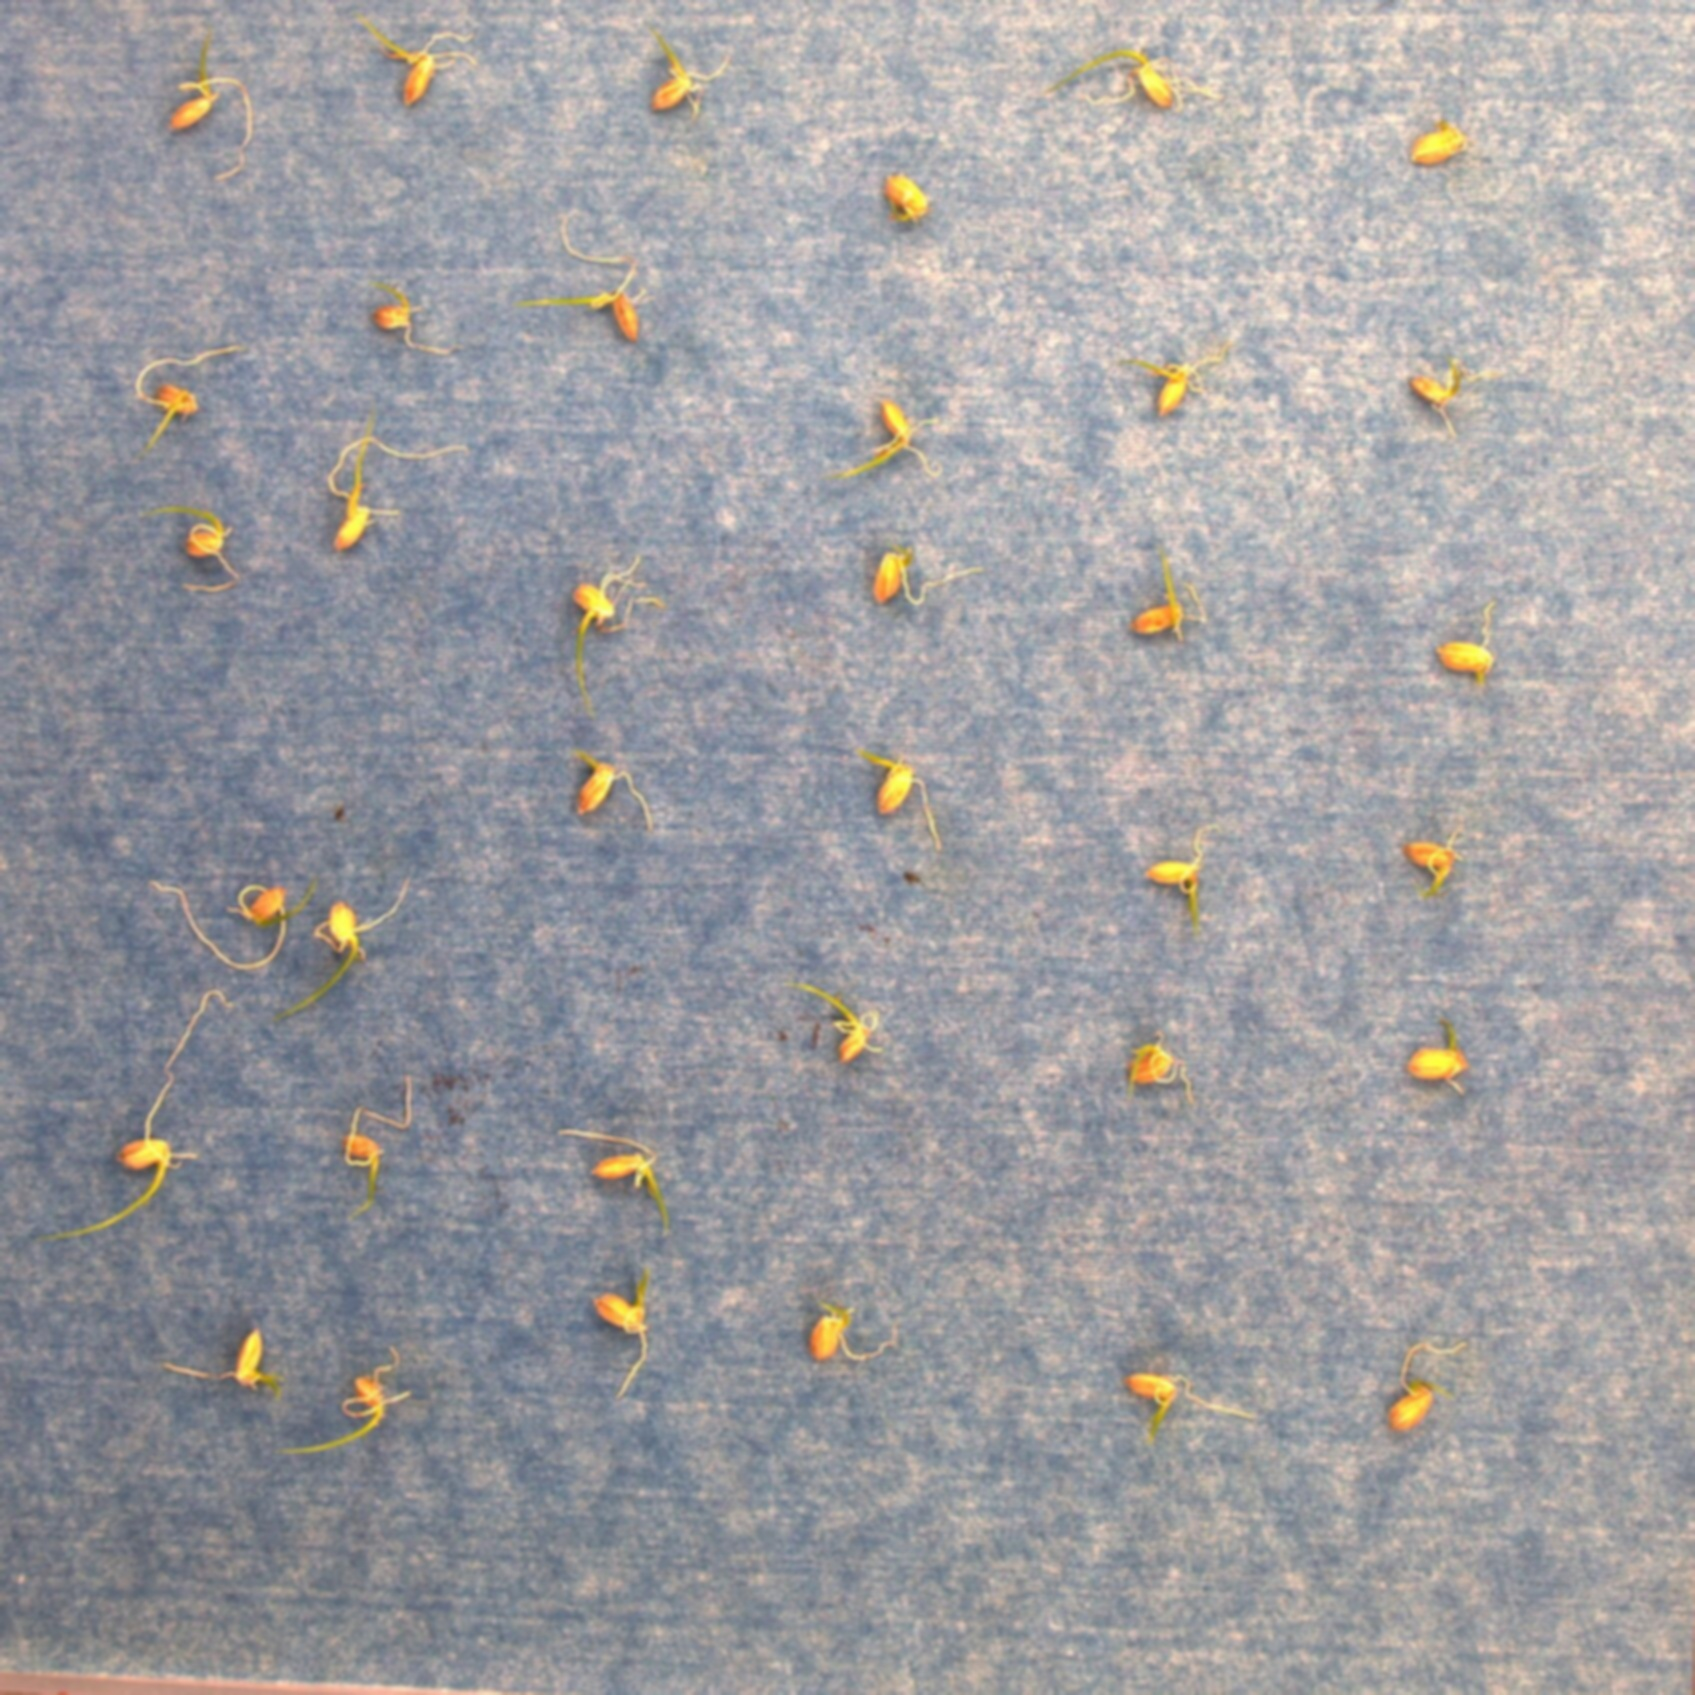not sprout: (1383, 1340, 1473, 1440), (1428, 598, 1501, 697), (868, 545, 976, 605), (806, 1302, 900, 1366), (1405, 118, 1465, 172)
sprout: (47, 989, 234, 1257), (272, 871, 408, 1023), (331, 404, 472, 549), (567, 531, 667, 722), (151, 865, 320, 976), (511, 208, 638, 343), (279, 1347, 410, 1453), (559, 1128, 671, 1243), (1121, 1357, 1263, 1437), (133, 340, 245, 442), (165, 47, 250, 180), (1138, 815, 1232, 931), (357, 19, 473, 109), (579, 1271, 653, 1403), (165, 1326, 282, 1408), (345, 1080, 408, 1222), (1125, 543, 1208, 646), (861, 751, 945, 847), (646, 33, 737, 120), (359, 275, 452, 359), (1049, 48, 1170, 112), (840, 394, 928, 477), (563, 747, 653, 827), (152, 504, 234, 591), (1125, 348, 1226, 418), (793, 979, 879, 1060), (1402, 354, 1470, 435), (1409, 1015, 1471, 1094), (1130, 1031, 1195, 1104), (1411, 826, 1464, 893), (882, 171, 930, 220)
